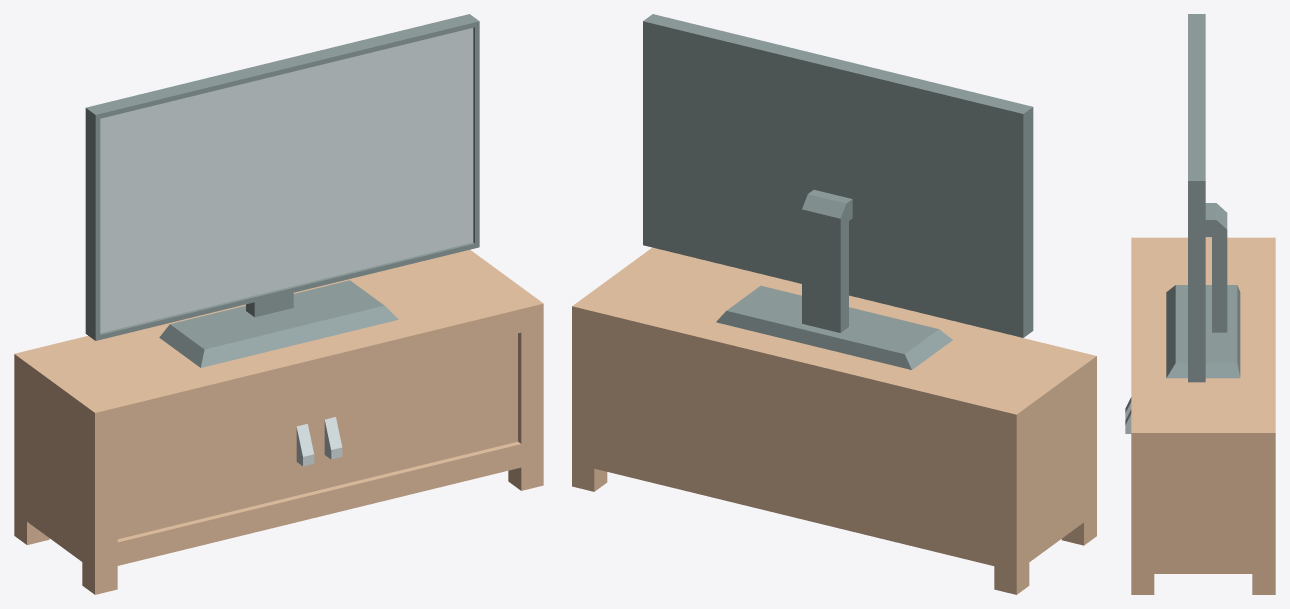
File: tv_modern_doors.glb
3 renders of one model, left to right at view 1: azimuth 30°, elevation 25°; view 2: azimuth 150°, elevation 25°; view 3: azimuth 270°, elevation 25°, orthographic. The views are drawn at different scales.
Visible parts, largest first — view 1: televisionModern(Clone), cabinetTelevisionDoors(Clone), doorRight, doorLeft; view 2: cabinetTelevisionDoors(Clone), televisionModern(Clone); view 3: cabinetTelevisionDoors(Clone), televisionModern(Clone).
Boxes of the visible parts, x1,y1,x2,y2 form: televisionModern(Clone): (85,14,479,367); cabinetTelevisionDoors(Clone): (14,250,543,594); doorRight: (316,333,517,490); doorLeft: (117,382,316,539); cabinetTelevisionDoors(Clone): (572,247,1096,594); televisionModern(Clone): (643,14,1033,369); cabinetTelevisionDoors(Clone): (1131,237,1275,594); televisionModern(Clone): (1166,14,1240,382).
Bounding box in the file's own units: 1.64 × 1.57 × 0.533.
